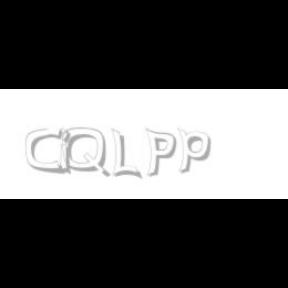C: (26, 128, 62, 174)
L: (111, 128, 139, 180)
P: (145, 128, 177, 178)
Q: (62, 128, 108, 178)
i: (58, 128, 74, 176)
p: (178, 128, 215, 174)
